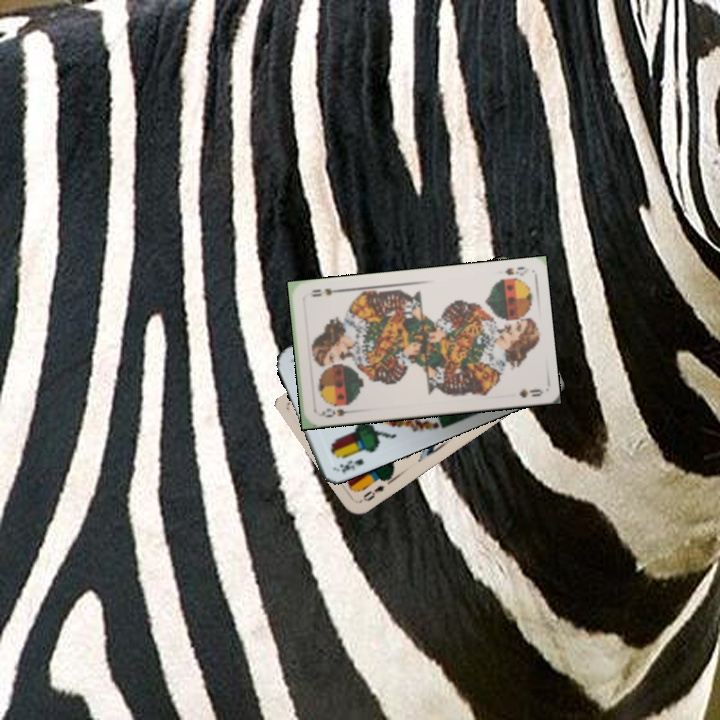EK: (336, 454, 366, 477)
EO: (359, 481, 387, 504)
SO: (315, 404, 356, 420), (501, 262, 531, 278)
